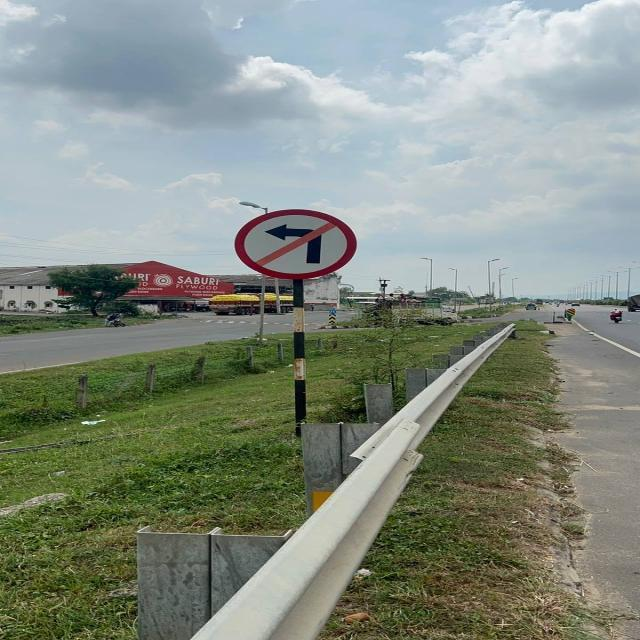left turn prohibited: (236, 210, 359, 282)
